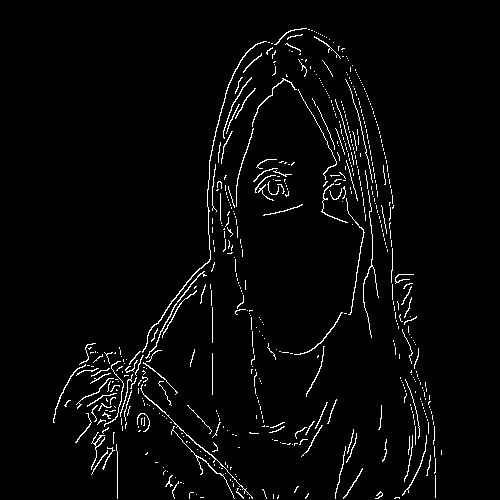mask: (234, 205, 374, 357)
